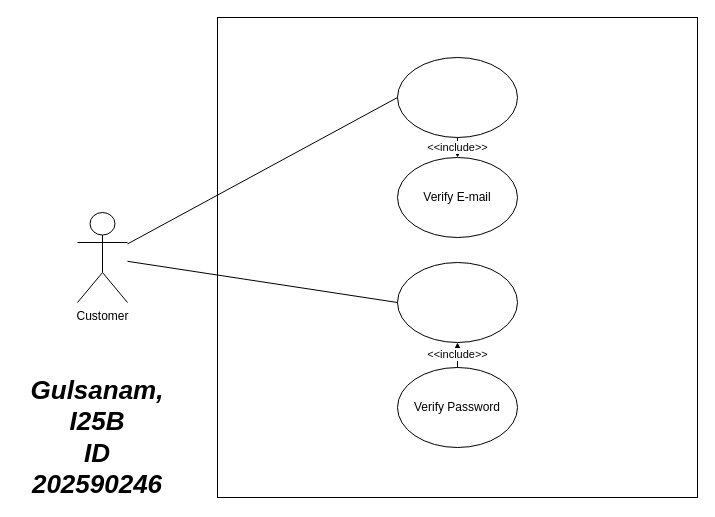
Image size: 715x517. Some labels were removed from this diagram. Here are the shapes that lost their labels. From the top down, the box of each, then its label:
(396, 56, 518, 138): Sign Up
(396, 262, 518, 342): Login
